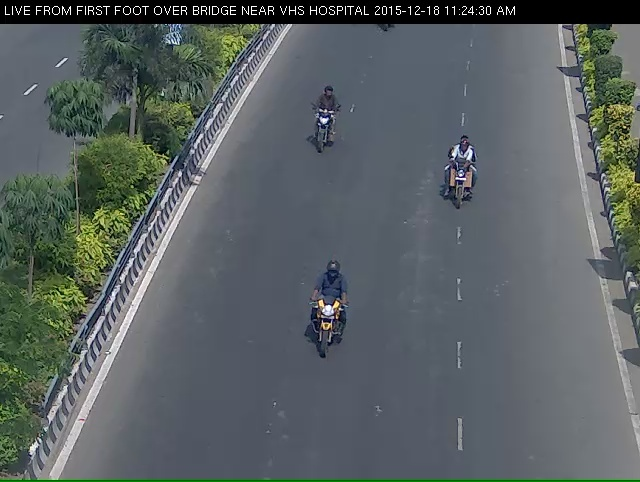Person: (299, 287, 346, 395), (440, 136, 479, 225), (297, 89, 335, 165)
